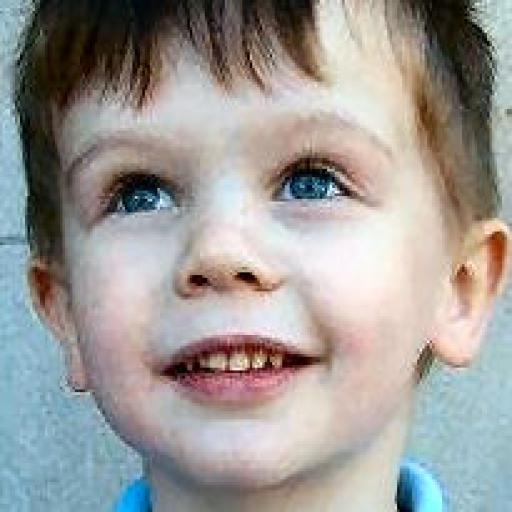Autism: (8, 11, 500, 512)
